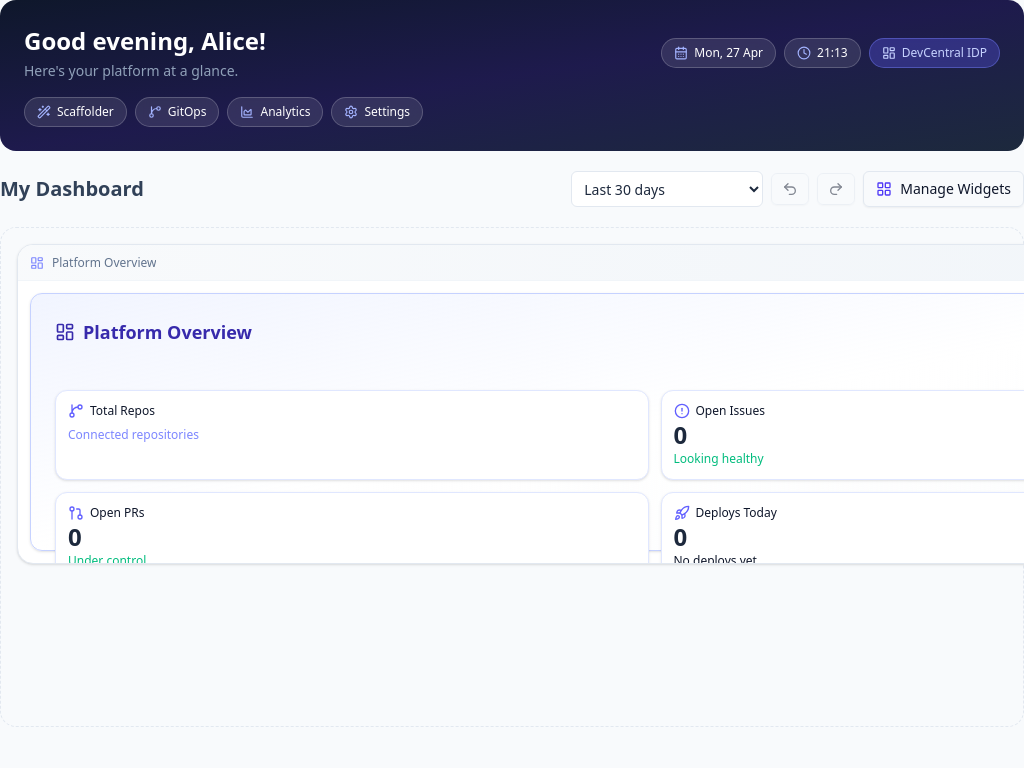
DashboardPage › opens the Widget Catalog dialog when 'Manage Widgets' is clicked
Click the button "Manage Widgets" at (944, 189), box [863,171,1023,207]
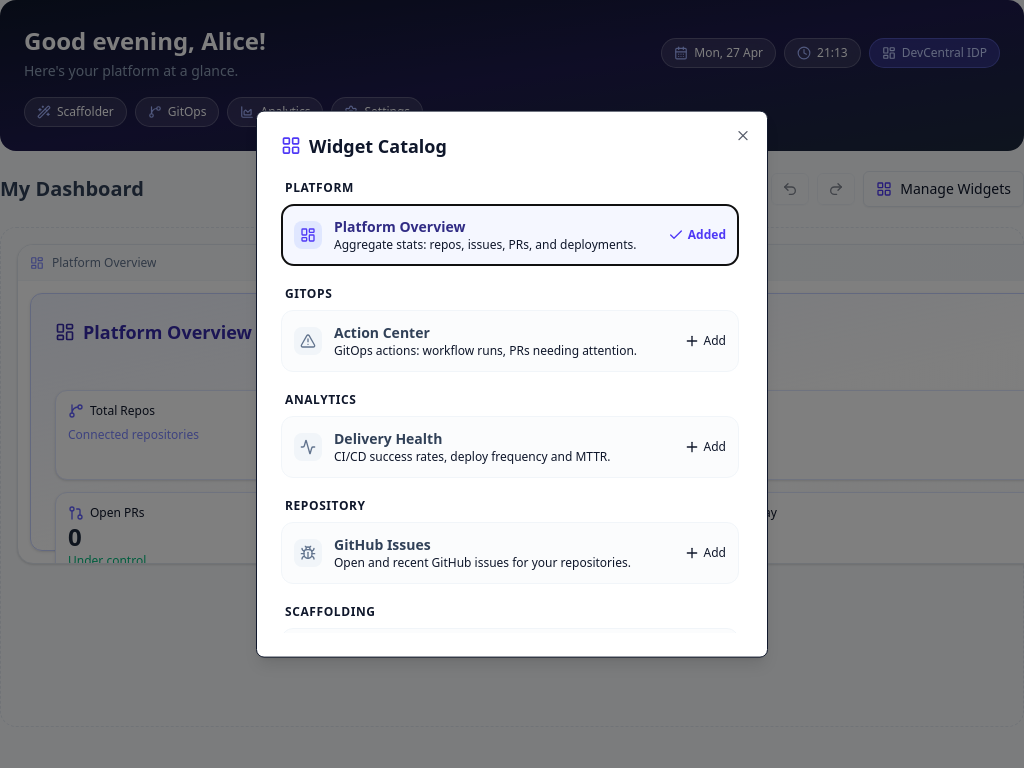
Check: the heading "Widget Catalog" is shown, box [281,134,447,158]
